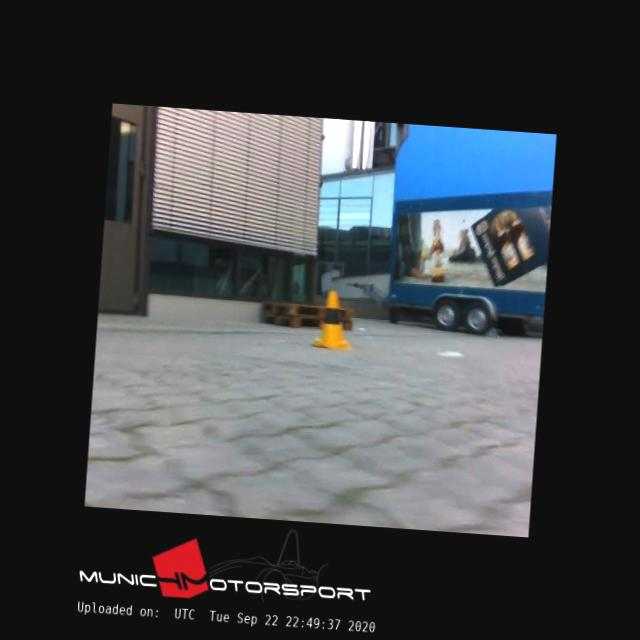yellow_cone: (312, 290, 354, 350)
